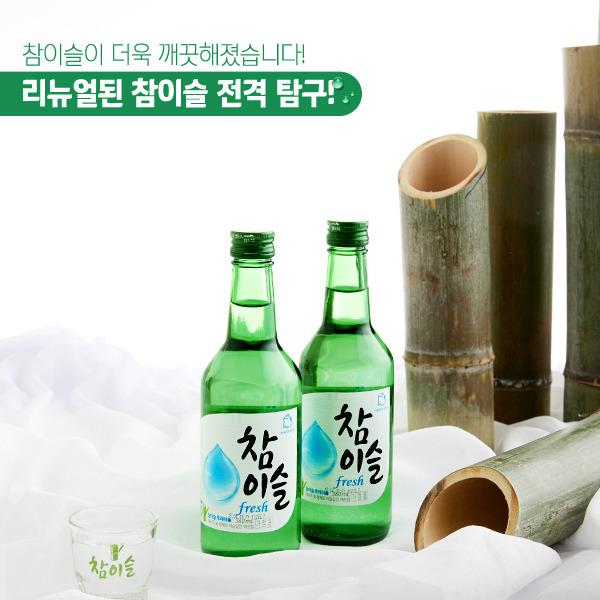soju: (191, 218, 402, 560)
